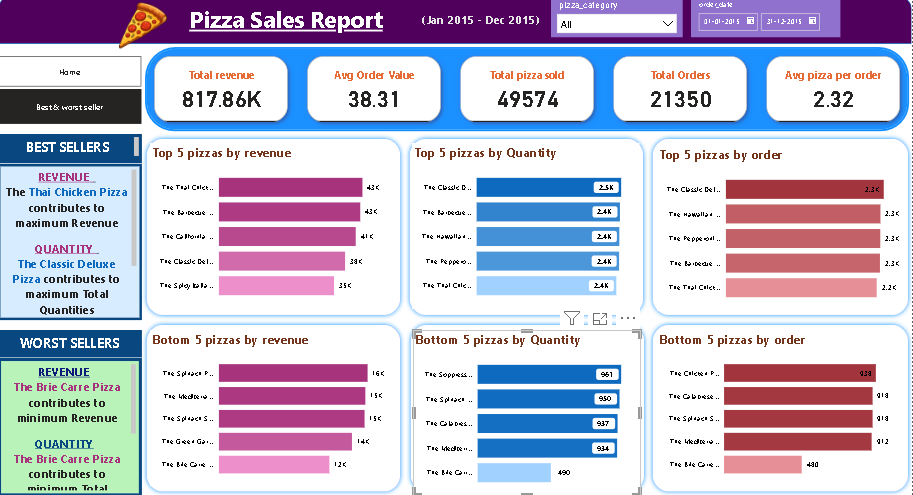

This screenshot's page, from the dashboard's own definition file:
{"tool":"powerbi","page":{"name":"Best & worst seller","canvas":[1500,820],"ordinal":1},"visuals":[{"type":"cardVisual","fields":{"Data":["pizza_sales.Total revenue","pizza_sales.Avg Order Value","pizza_sales.Total pizza sold","pizza_sales.Total Orders","pizza_sales.Avg pizza per order"]},"box":[235.9,78.1,1264.1,148.4],"z":0},{"type":"shape","box":[0,1.6,1498.4,76.6],"z":1000},{"type":"textbox","box":[290.6,7.8,364.1,65.6],"z":2000},{"type":"textbox","box":[679.7,21.9,226.6,45.3],"z":3000},{"type":"image","box":[181.2,0,109.4,98.4],"z":4000},{"type":"shape","box":[235.9,226.6,431.2,304.7],"z":5000},{"type":"slicer","fields":{"Values":["pizza_sales.pizza_category"]},"box":[906.2,1.6,215.6,65.6],"z":6000},{"type":"slicer","fields":{"Values":["pizza_sales.order_date"]},"box":[1135.9,1.6,245.3,65.6],"z":7000},{"type":"textbox","box":[0,226.6,235.9,48.4],"z":8000},{"type":"textbox","box":[0,275,235.9,256.2],"z":9000},{"type":"textbox","box":[0,548.4,235.9,45.3],"z":10000},{"type":"textbox","box":[0,593,236,227],"z":11000},{"type":"shape","box":[667.2,226.6,398.4,304.7],"z":12000},{"type":"shape","box":[1065.6,226.6,434.4,304.7],"z":13000},{"type":"shape","box":[235.9,531.2,431.2,289.1],"z":14000},{"type":"shape","box":[668.8,531.2,398.4,289.1],"z":15000},{"type":"shape","box":[1065.6,531.2,434.4,289.1],"z":16000},{"type":"barChart","title":"Top 5 pizzas by revenue  ","fields":{"Category":["pizza_sales.pizza_name"],"Y":["pizza_sales.Total revenue"]},"box":[250,240.6,401.6,271.9],"z":17000},{"type":"barChart","title":"Botom 5 pizzas by revenue  ","fields":{"Category":["pizza_sales.pizza_name"],"Y":["pizza_sales.Total revenue"]},"box":[250,548.4,401.6,256.2],"z":18000},{"type":"barChart","title":"Top 5 pizzas by Quantity","fields":{"Category":["pizza_sales.pizza_name"],"Y":["pizza_sales.Total pizza sold"]},"box":[679.7,240.6,373.4,271.9],"z":19000},{"type":"barChart","title":"Bottom 5 pizzas by Quantity","fields":{"Category":["pizza_sales.pizza_name"],"Y":["pizza_sales.Total pizza sold"]},"box":[681.2,548.4,373.4,271.9],"z":20000},{"type":"barChart","title":"Top 5 pizzas by order","fields":{"Category":["pizza_sales.pizza_name"],"Y":["pizza_sales.Total Orders"]},"box":[1081.2,243.8,401.6,271.9],"z":21000},{"type":"barChart","title":"Bottom 5 pizzas by order","fields":{"Category":["pizza_sales.pizza_name"],"Y":["pizza_sales.Total Orders"]},"box":[1081.2,548.4,389.1,256.2],"z":22000},{"type":"pageNavigator","box":[0,98.4,235.9,50],"z":23000},{"type":"pageNavigator","box":[0,153.1,235.9,57.8],"z":24000}]}

Visuals, with their boxes in screenshot pixels (x1, y1, x2, y2), scaled from the page's 1500x820 canvas onto the 913x495 screenshot:
cardVisual - pizza_sales.Total revenue x pizza_sales.Avg Order Value: rect(144, 47, 912, 137)
shape: rect(0, 1, 912, 47)
textbox: rect(177, 5, 398, 44)
textbox: rect(414, 13, 552, 41)
image: rect(110, 0, 177, 59)
shape: rect(144, 137, 406, 321)
slicer - pizza_sales.pizza_category: rect(552, 1, 683, 41)
slicer - pizza_sales.order_date: rect(691, 1, 841, 41)
textbox: rect(0, 137, 144, 166)
textbox: rect(0, 166, 144, 321)
textbox: rect(0, 331, 144, 358)
textbox: rect(0, 358, 144, 494)
shape: rect(406, 137, 649, 321)
shape: rect(649, 137, 912, 321)
shape: rect(144, 321, 406, 494)
shape: rect(407, 321, 650, 494)
shape: rect(649, 321, 912, 494)
"Top 5 pizzas by revenue  " barChart: rect(152, 145, 397, 309)
"Botom 5 pizzas by revenue  " barChart: rect(152, 331, 397, 486)
"Top 5 pizzas by Quantity" barChart: rect(414, 145, 641, 309)
"Bottom 5 pizzas by Quantity" barChart: rect(415, 331, 642, 494)
"Top 5 pizzas by order" barChart: rect(658, 147, 903, 311)
"Bottom 5 pizzas by order" barChart: rect(658, 331, 895, 486)
pageNavigator: rect(0, 59, 144, 90)
pageNavigator: rect(0, 92, 144, 127)
